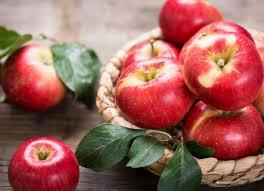apple: (112, 57, 192, 125), (184, 37, 258, 102), (9, 42, 78, 109), (7, 137, 78, 190), (190, 106, 261, 157), (158, 2, 227, 46), (126, 37, 183, 75)
